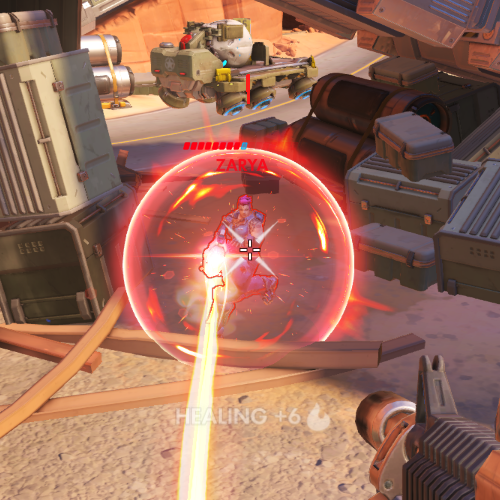hpbar: (182, 141, 299, 151)
